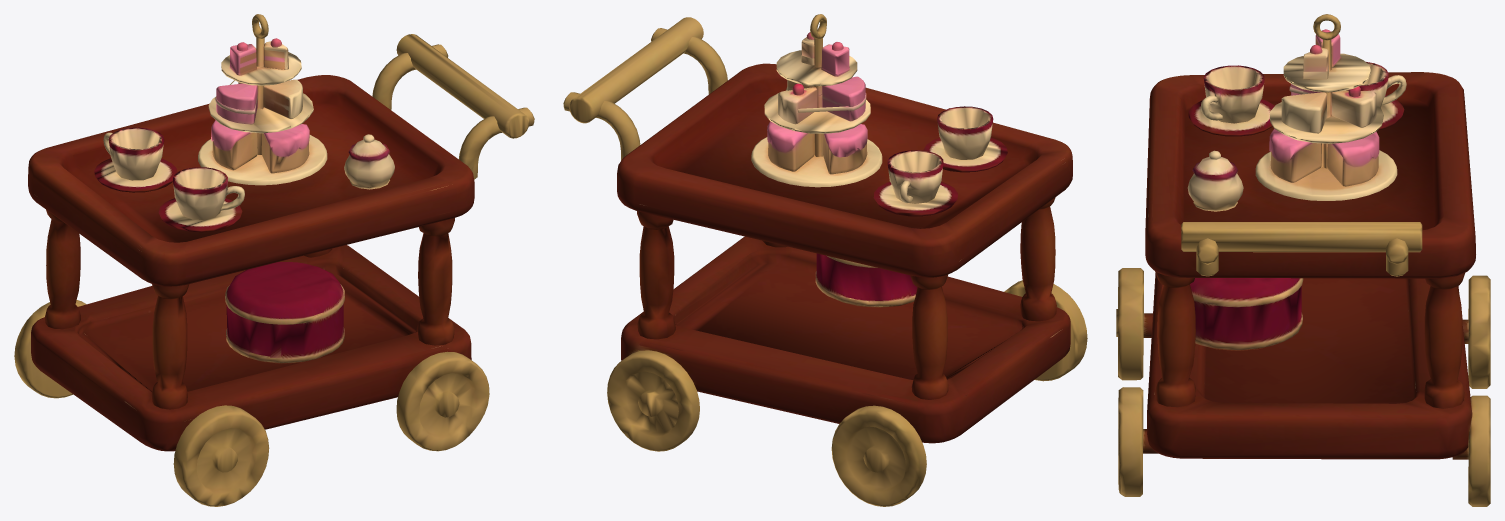
Rendered from tea_trolley.glb.
The picture shows the model from 3 angles, left to right: view 1: azimuth 30°, elevation 25°; view 2: azimuth 150°, elevation 25°; view 3: azimuth 270°, elevation 25°; orthographic projection. The views are drawn at different scales.
Visible parts, largest first — view 1: tea_trolley; view 2: tea_trolley; view 3: tea_trolley.
Part boxes in pixels (x1,y1,x2,y2): tea_trolley: (14,14,534,506); tea_trolley: (563,14,1087,506); tea_trolley: (1116,14,1490,506).
Bounding box in the file's own units: 1.15 × 1.1 × 0.852.
Materials: 1 (1 with a texture image).
